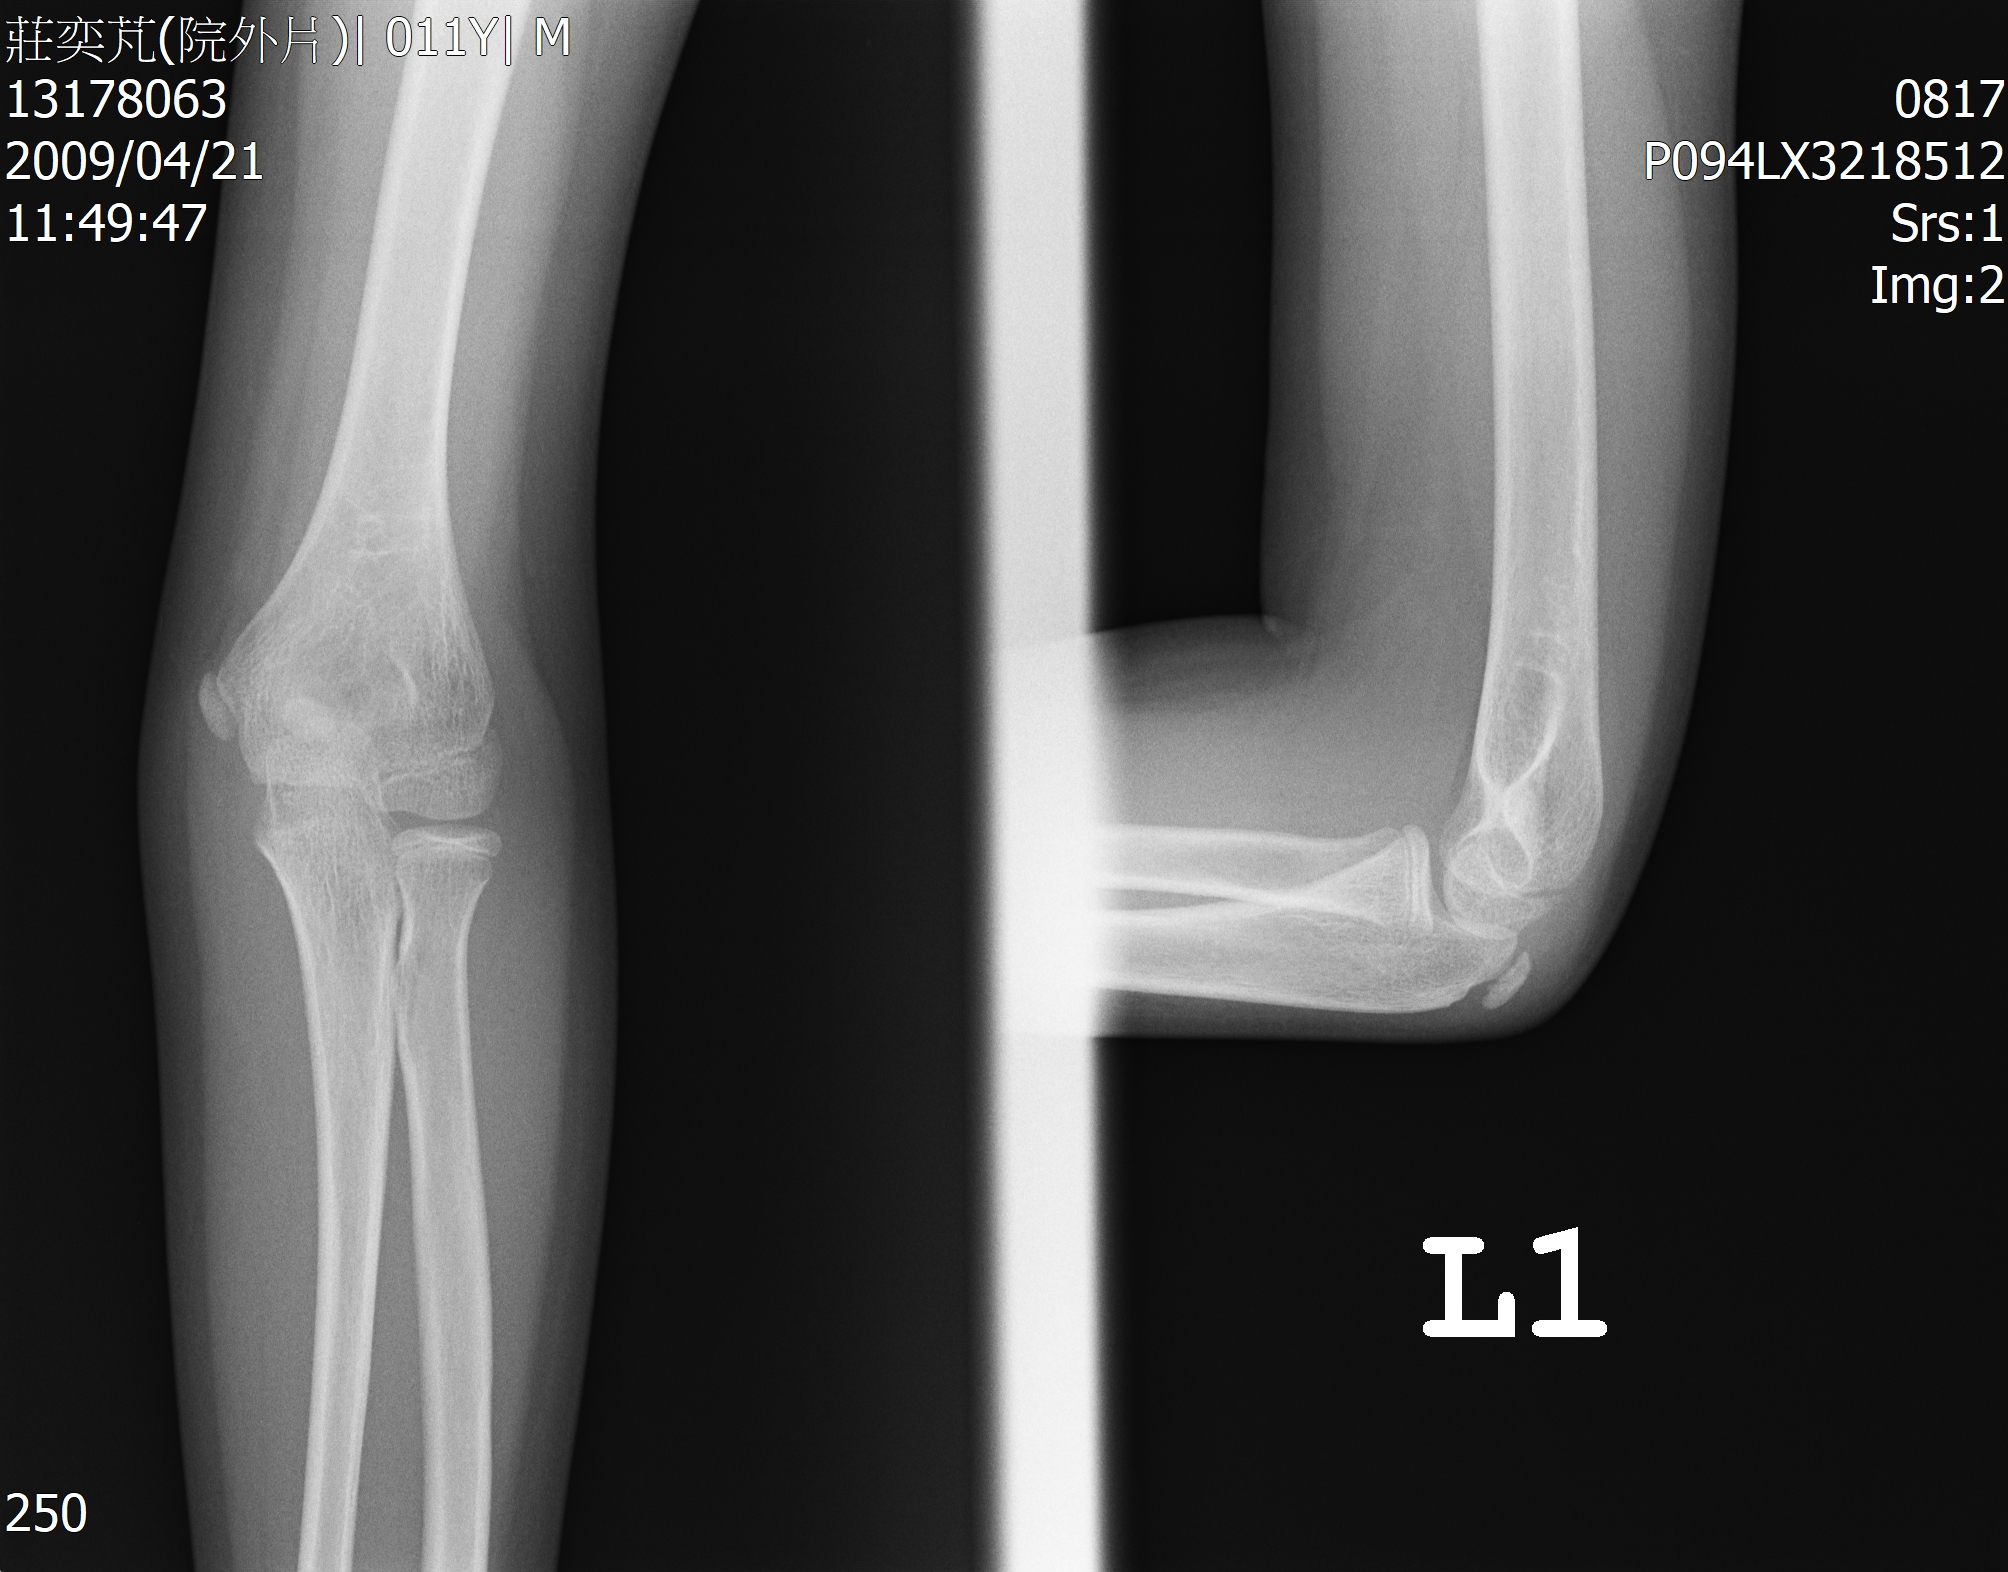Normal: (125, 494, 626, 1008), (1206, 621, 1692, 1150)
